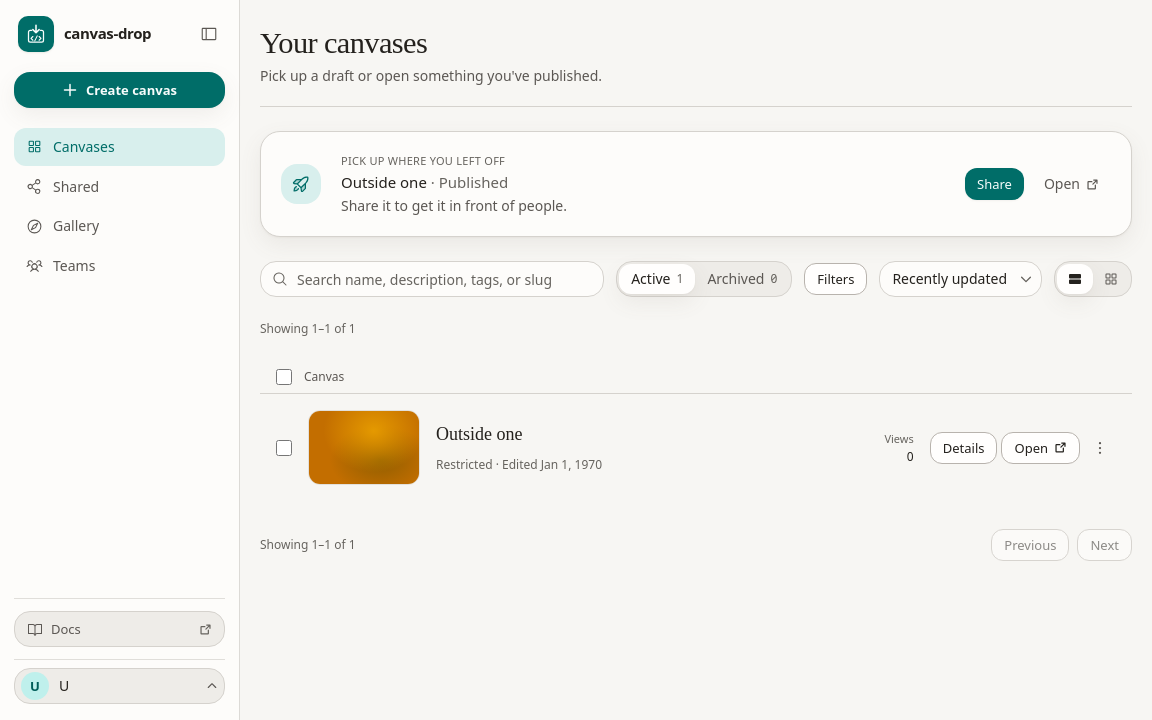
Your canvases — server-side filters (plan 005) › closes the overflow menu when clicking outside it
Click the button named "More actions for Outside one".
click(1100, 448)  # box [1084,432,1116,464]
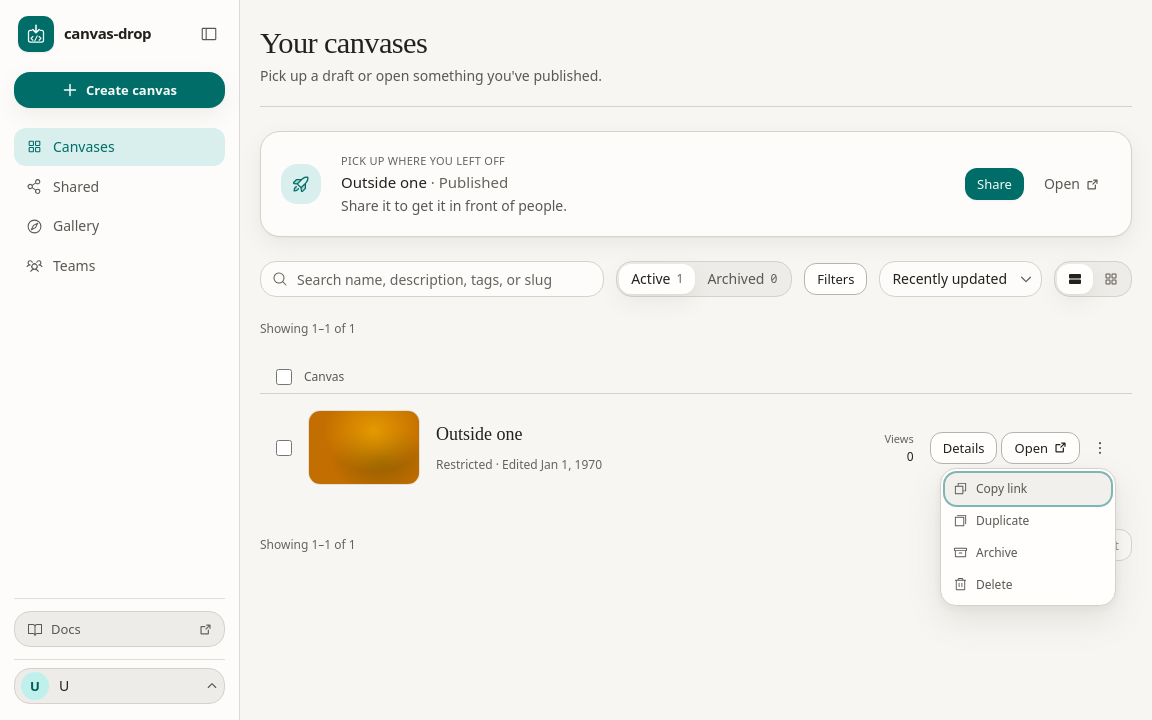
Result: the menu item "Copy link" is shown at [945,473,1111,505]
Click the heading "Your canvases".
click(344, 43)  # box [260,26,427,60]
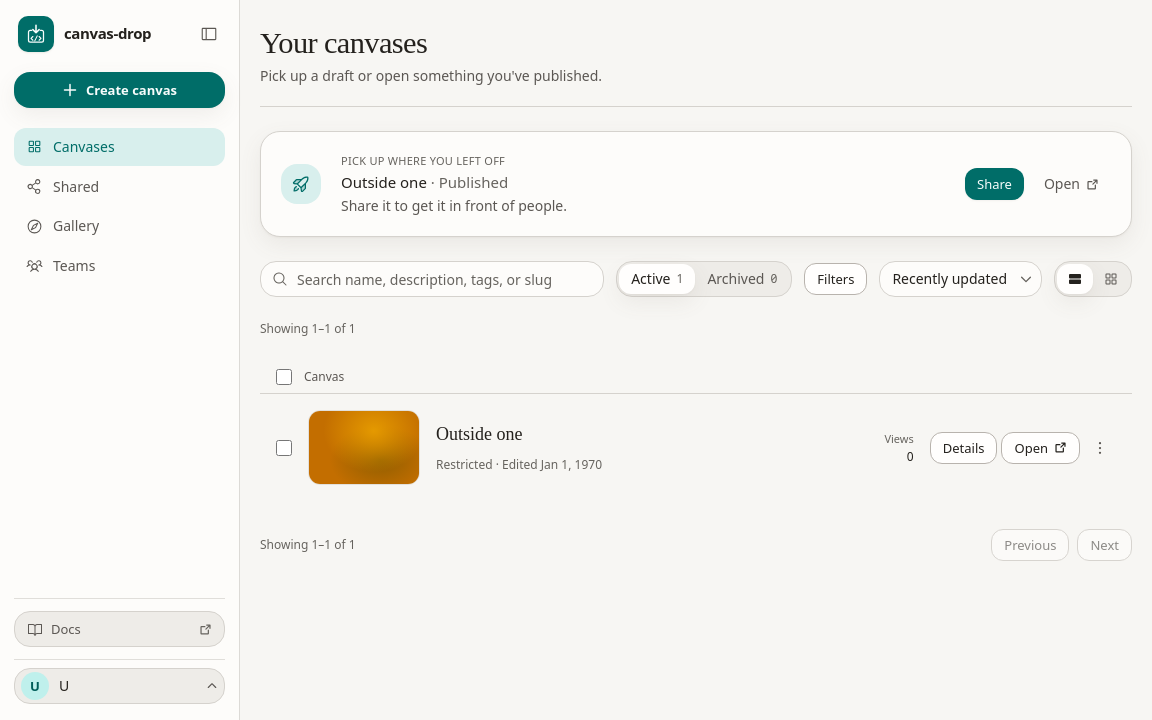
Result: the menu item "Copy link" is gone
